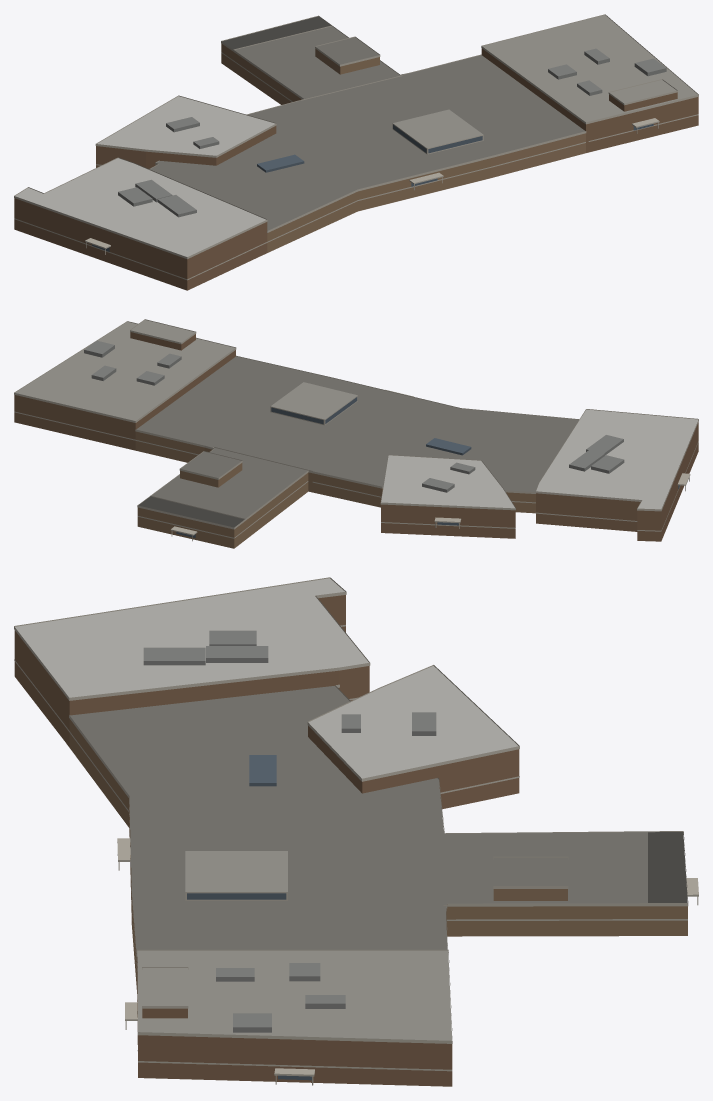
Rendered from mccain-mall.glb.
The picture shows the model from 3 angles, top to bottom: view 1: azimuth 30°, elevation 25°; view 2: azimuth 150°, elevation 25°; view 3: azimuth 270°, elevation 25°; orthographic projection. The views are drawn at different scales.
Visible parts, largest first — view 1: mccain_mall; view 2: mccain_mall; view 3: mccain_mall.
Boxes of the visible parts, x1,y1,x2,y2 form: mccain_mall: (14,14,698,290); mccain_mall: (14,319,698,548); mccain_mall: (14,577,698,1086).
Bounding box in the file's own units: 382 × 22.3 × 240.
